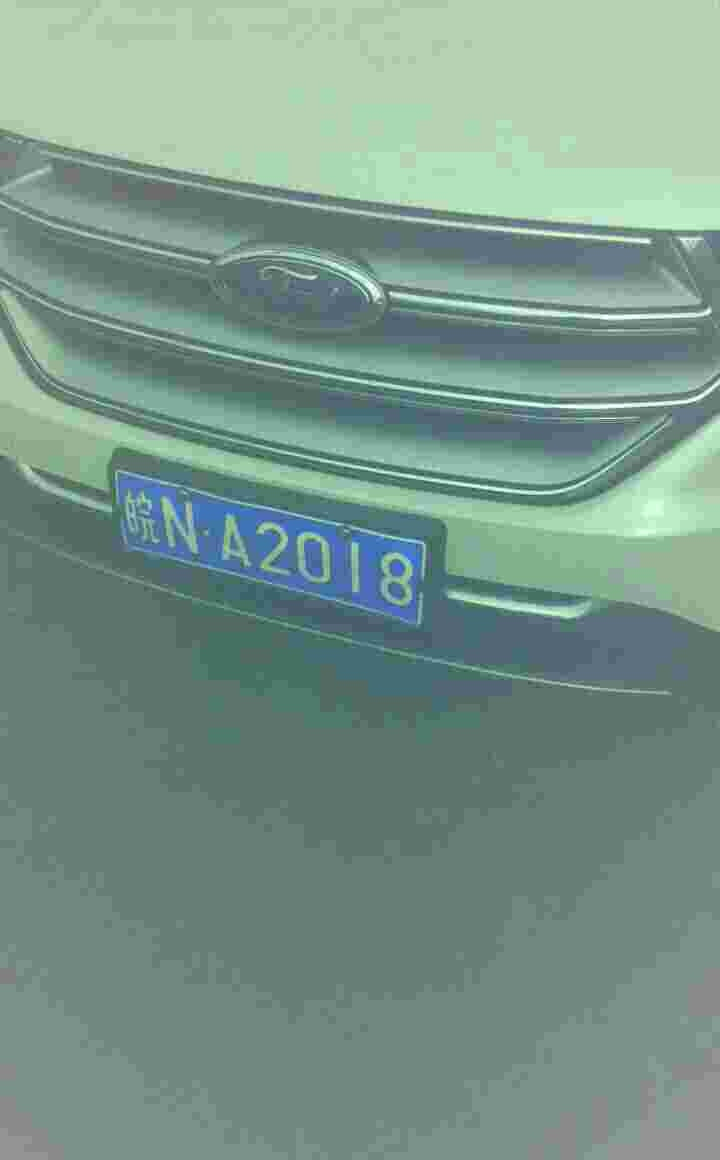license_plate: (110, 472, 436, 612)
